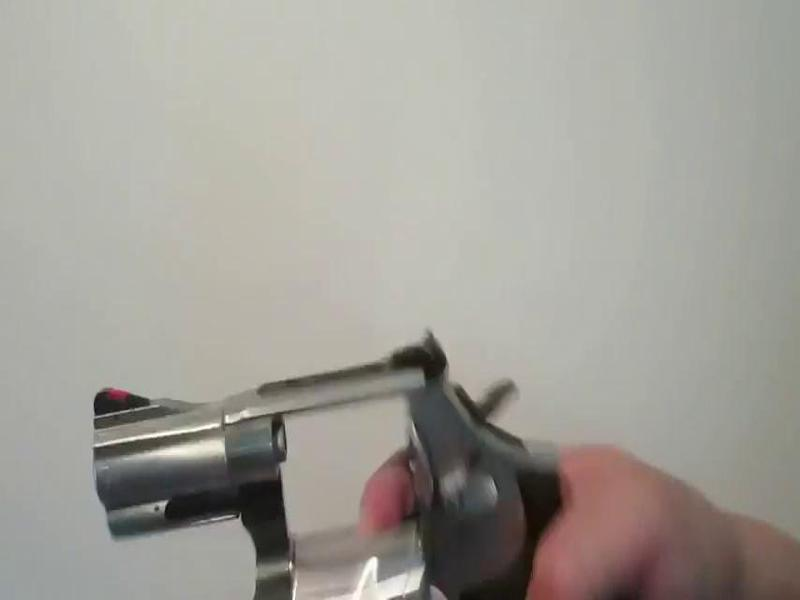Revolver: (87, 310, 577, 600)
